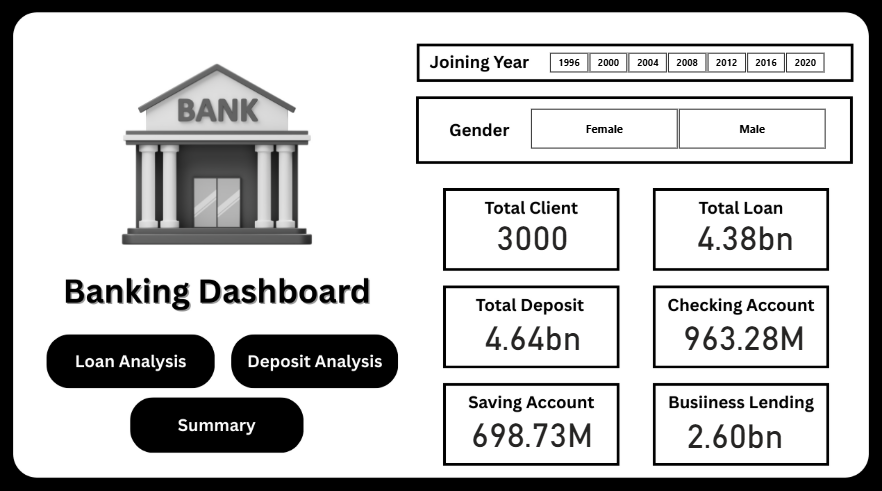

The dashboard page shown, as its layout file describes it:
{"tool":"powerbi","page":{"name":"Home","canvas":[1280,720],"ordinal":0},"visuals":[{"type":"slicer","fields":{"Values":["Gender.Gender"]},"box":[742.5,154.5,473.7,70.6],"z":0},{"type":"card","fields":{"Values":["Banking_Clients.Total_Loan"]},"box":[927.2,255.3,300.7,173],"z":1000},{"type":"card","fields":{"Values":["CountNonNull(Banking_Clients.Name)"]},"box":[685.4,277.2,171.3,131],"z":2000},{"type":"card","fields":{"Values":["Banking_Clients.Total_deposit"]},"box":[641.7,403.1,258.7,164.6],"z":3000},{"type":"card","fields":{"Values":["Sum(Banking_Clients.Checking Accounts)"]},"box":[940.7,391.4,270.4,188.1],"z":4000},{"type":"card","fields":{"Values":["Sum(Banking_Clients.Saving Accounts)"]},"box":[635,531.9,270.4,188.1],"z":5000},{"type":"card","fields":{"Values":["Sum(Banking_Clients.Business Lending)"]},"box":[927.2,532.5,270.4,188.1],"z":6000},{"type":"slicer","fields":{"Values":["Banking_Clients.Joined Bank.Variation.Date Hierarchy.Year"]},"box":[771,73.9,445.1,42],"z":7000},{"type":"actionButton","box":[95.9,492.8,195.1,58.9],"z":8000},{"type":"actionButton","box":[356.6,492.8,206.9,58.9],"z":9000},{"type":"actionButton","box":[218.7,585.3,206.9,58.9],"z":10000}]}

Visuals, with their boxes in screenshot pixels (x1, y1, x2, y2), scaled from the page's 1280x720 canvas onto the 882x491 screenshot:
slicer - Gender.Gender: box(512, 105, 838, 154)
card - Banking_Clients.Total_Loan: box(639, 174, 846, 292)
card - CountNonNull(Banking_Clients.Name): box(472, 189, 590, 278)
card - Banking_Clients.Total_deposit: box(442, 275, 620, 387)
card - Sum(Banking_Clients.Checking Accounts): box(648, 267, 835, 395)
card - Sum(Banking_Clients.Saving Accounts): box(438, 363, 624, 490)
card - Sum(Banking_Clients.Business Lending): box(639, 363, 825, 490)
slicer - Banking_Clients.Joined Bank.Variation.Date Hierarchy.Year: box(531, 50, 838, 79)
actionButton: box(66, 336, 201, 376)
actionButton: box(246, 336, 388, 376)
actionButton: box(151, 399, 293, 439)
